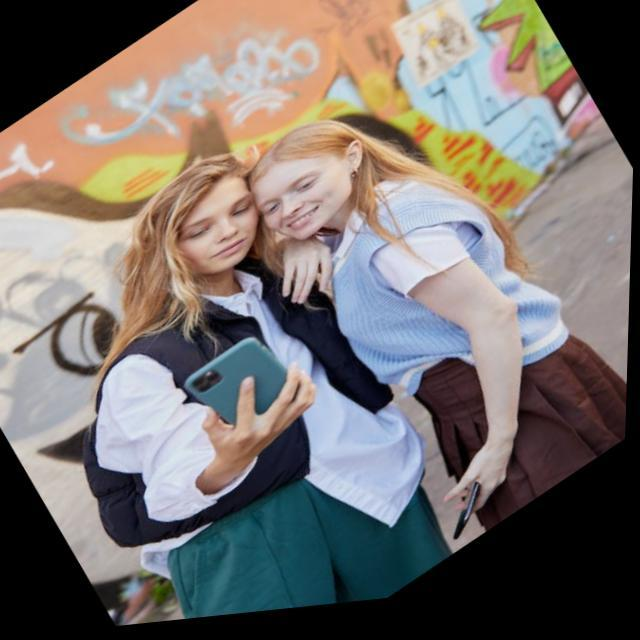Nonhelmet: (245, 99, 366, 258), (146, 148, 266, 276)
